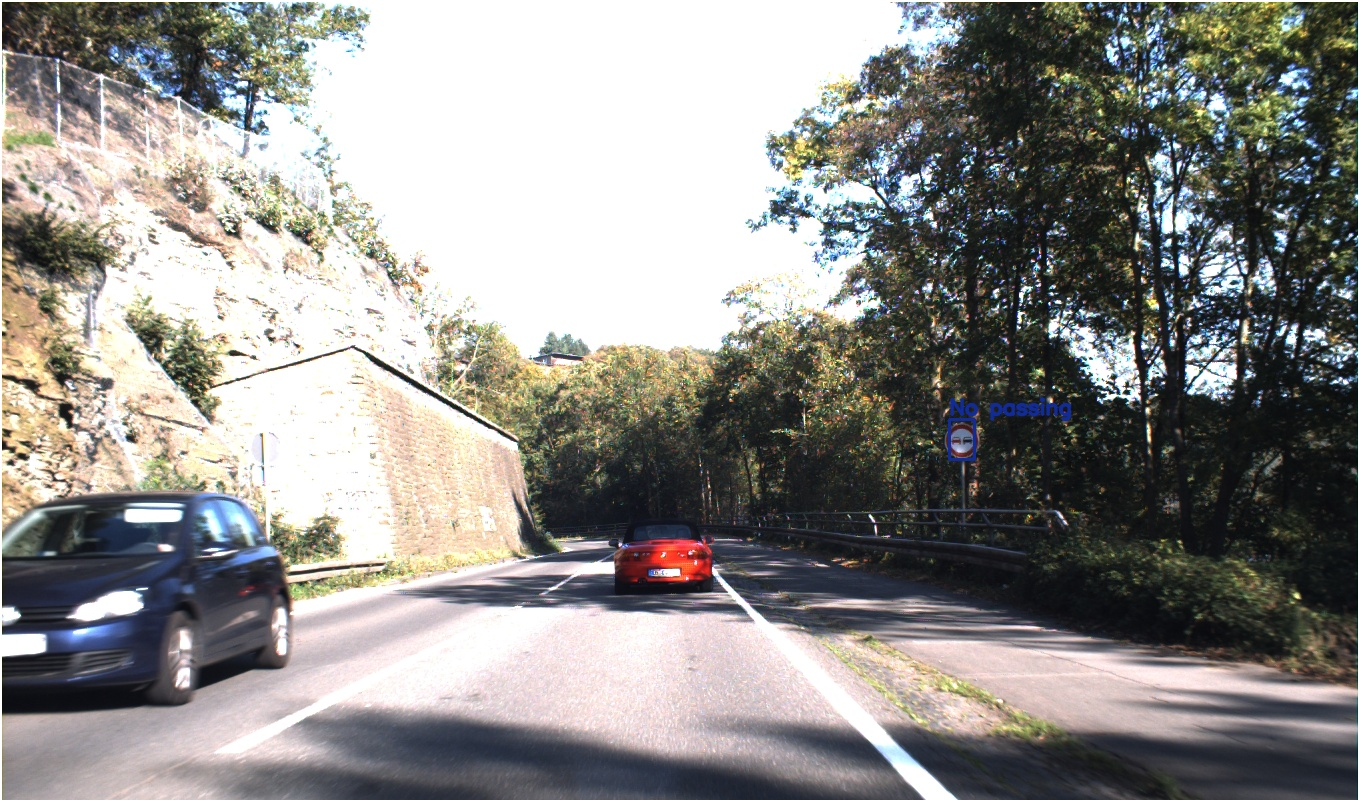Keep right: (296, 508, 323, 535)
Speed limit (50km/h): (819, 441, 842, 464)
